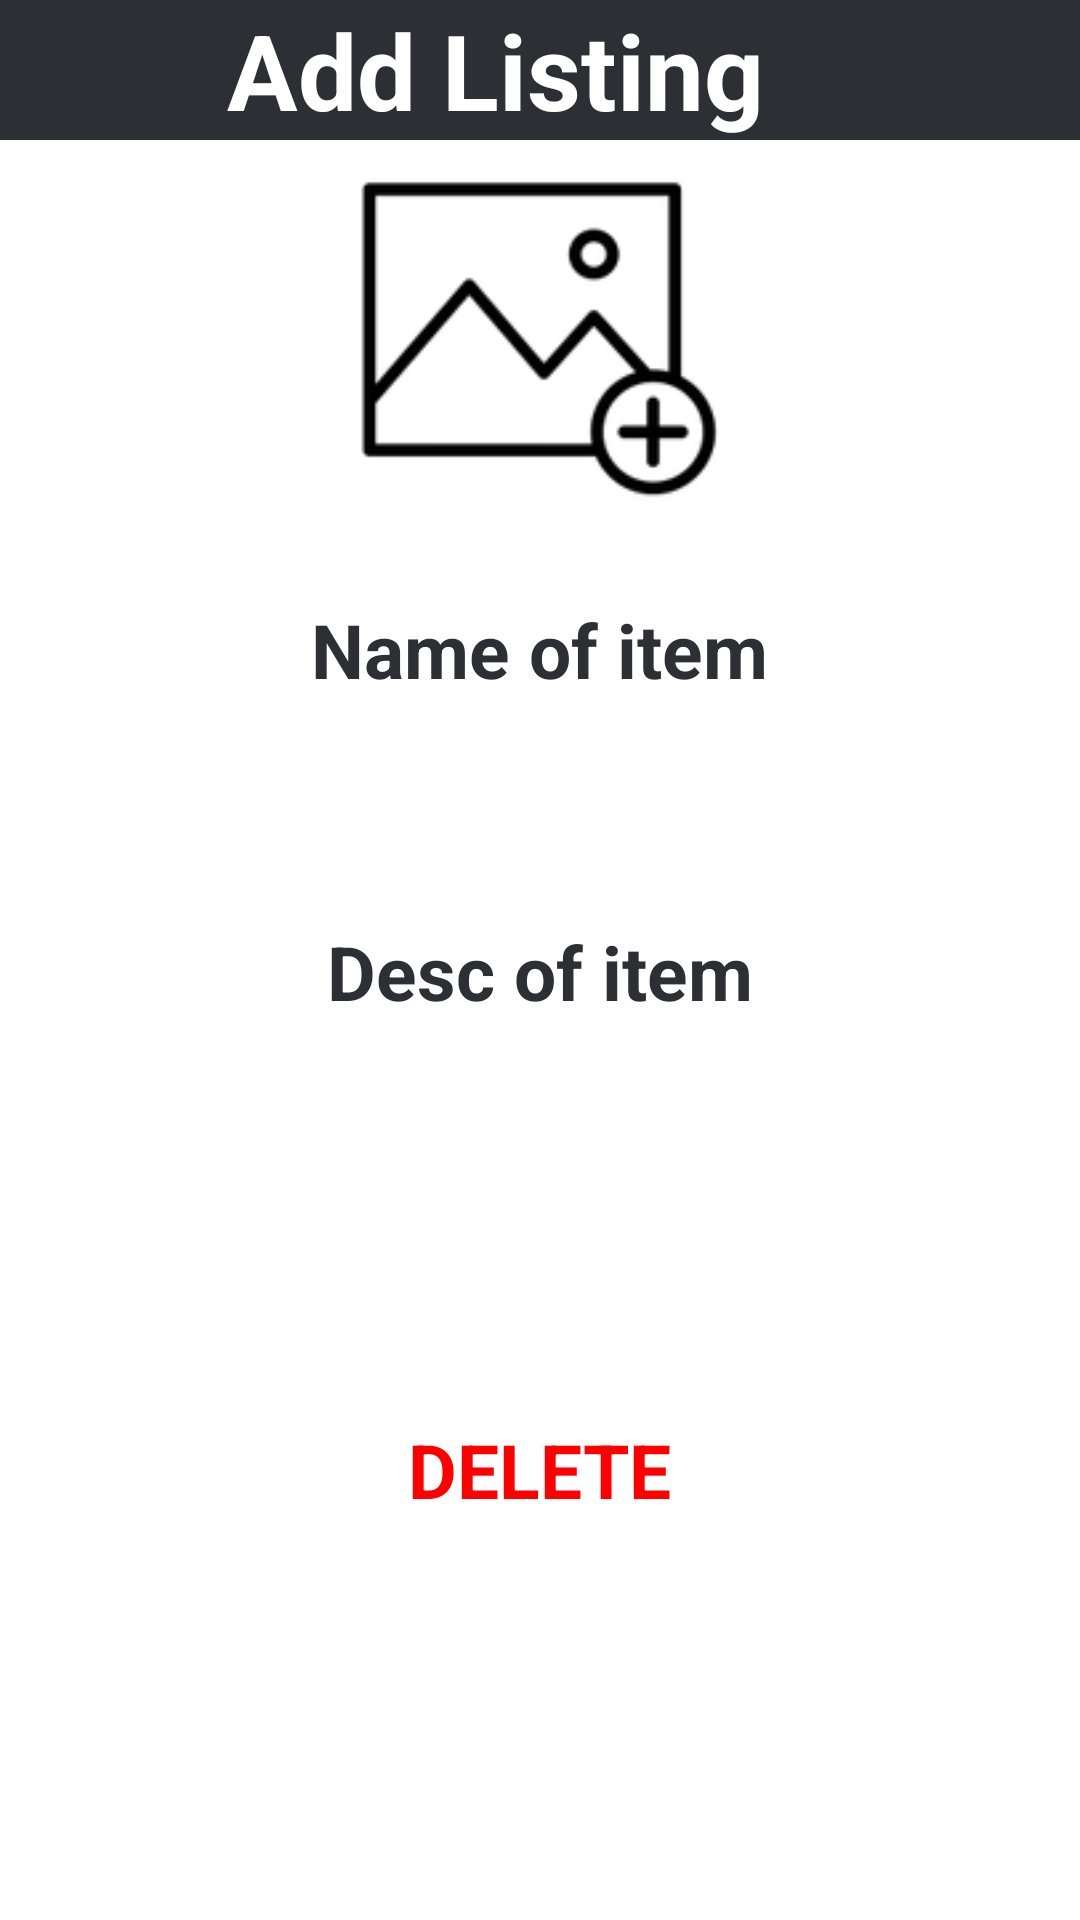

Where icons sit on this 1080 x 1920 app screen, as (x1, y1, x2, y2):
addimage: (361, 182, 717, 497)
